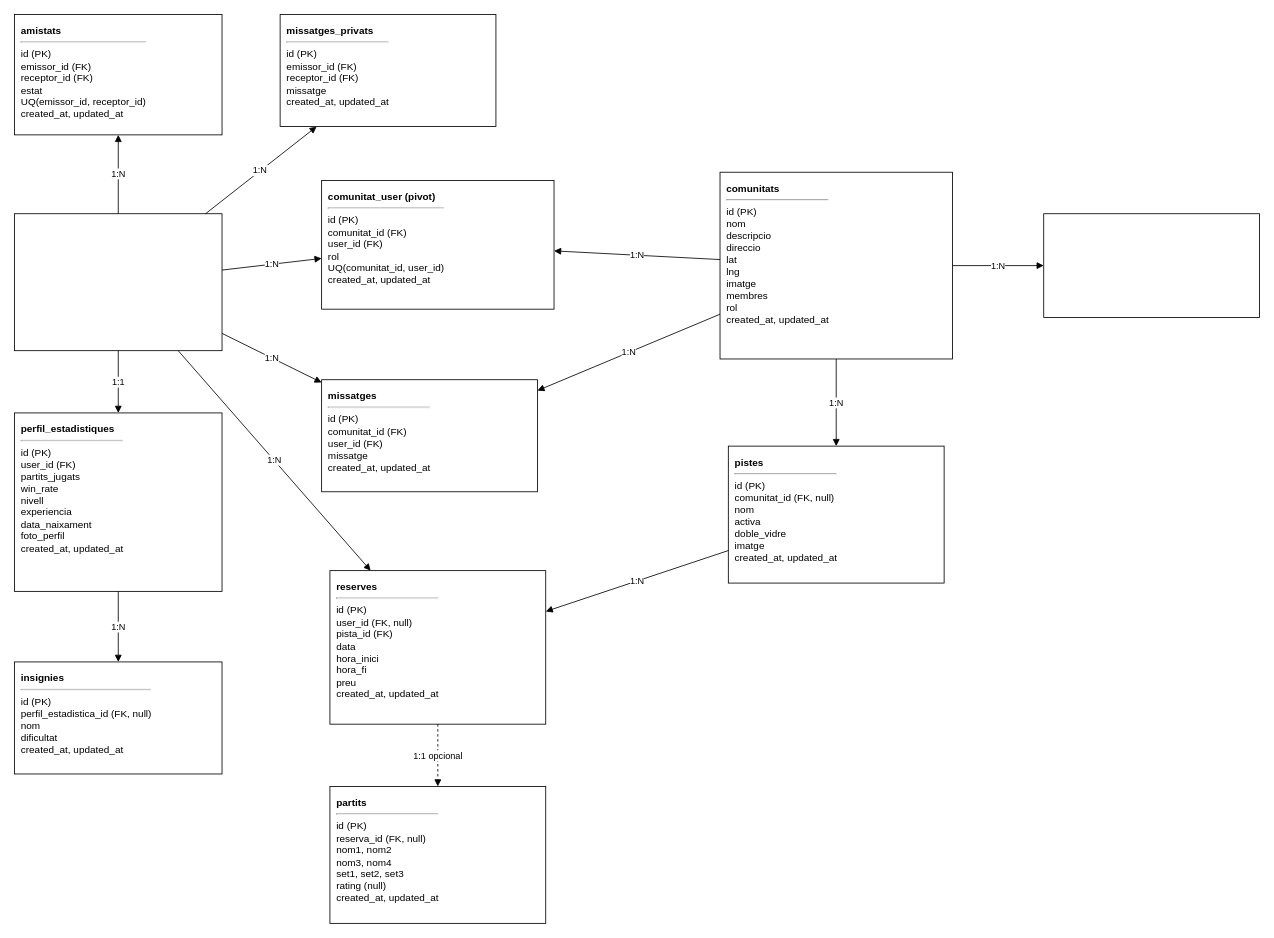
Some shapes in this 1274 by 938 pixel diagram are drawn without their labels. The shapes that lost their labels are listed below. From the top down, each one's centre as x and y in pixels, then its label:
the point at 118,282: users id (PK) name email (UQ) password role created_at, updated_at
the point at 1151,265: galeria id (PK) comunitat_id (FK, null) imatge created_at, updated_at
